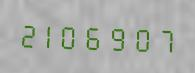nine: (109, 20, 131, 54)
one: (40, 18, 62, 51)
seven: (155, 22, 177, 55)
six: (86, 19, 108, 53)
two: (17, 17, 39, 50)
zero: (63, 18, 85, 52), (132, 21, 154, 54)
